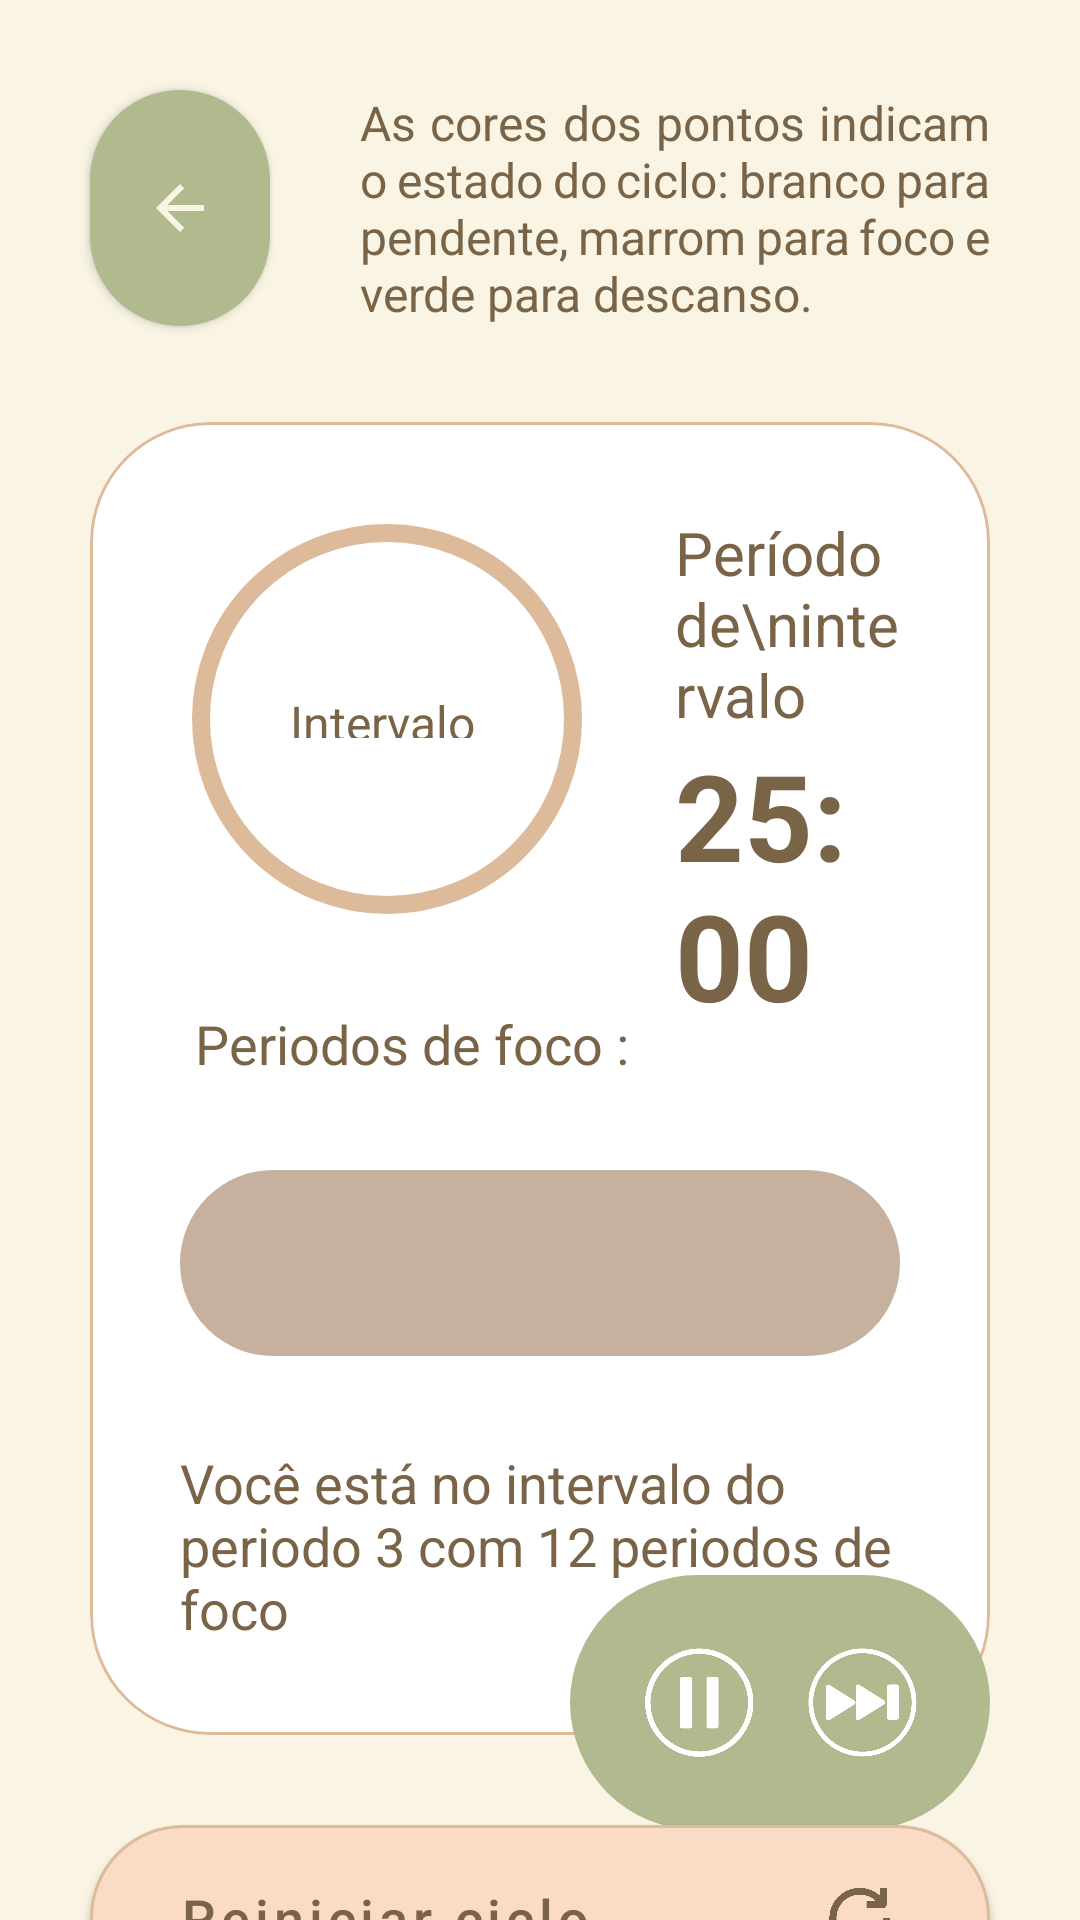

Screen size 1080*1920. Icon name, then its box in pixels as (x1,y1,x2,y2):
arrow back: (90,90,270,326)
pause: (645,1648,753,1757)
skip next: (808,1648,917,1757)
